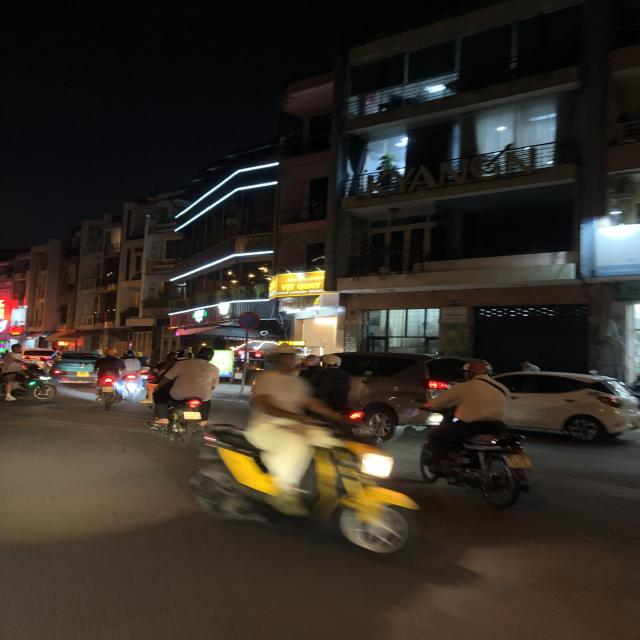Bien bao cam dung xe va do xe: (236, 310, 263, 331)
